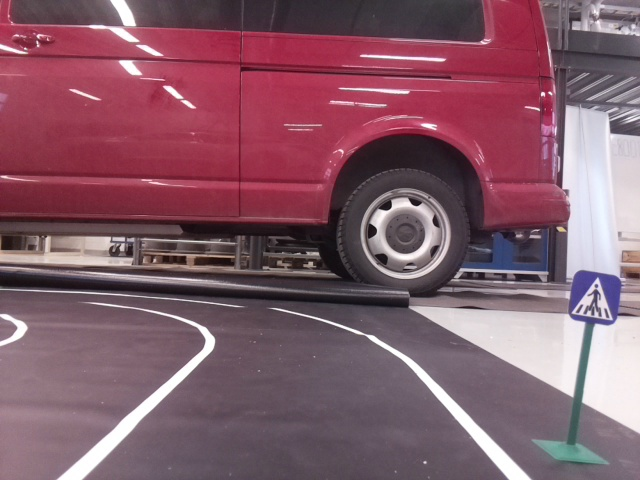Crosswalk: (569, 269, 616, 323)
